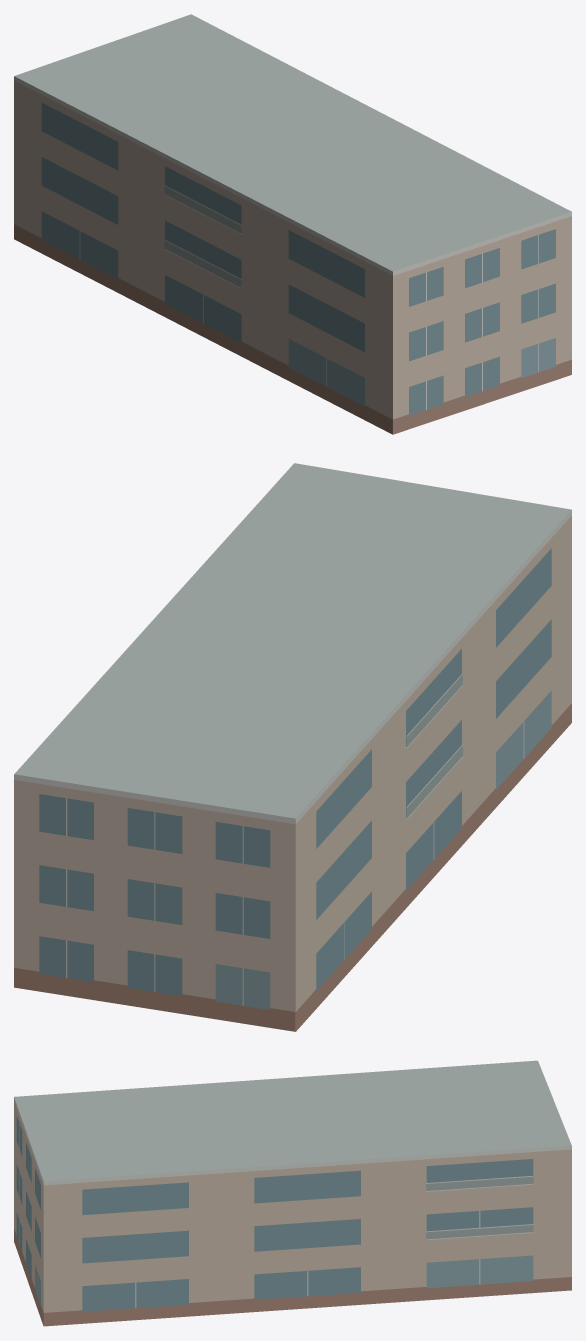
Rendered from survey-upis-33000764.glb.
The picture shows the model from 3 angles, top to bottom: view 1: azimuth 30°, elevation 25°; view 2: azimuth 150°, elevation 25°; view 3: azimuth 270°, elevation 25°; orthographic projection. The views are drawn at different scales.
Parts seen in each view (by area): view 1: survey-upis-33000764.tmp; view 2: survey-upis-33000764.tmp; view 3: survey-upis-33000764.tmp.
Part boxes in pixels (bbox=[...]): survey-upis-33000764.tmp: bbox=[14, 14, 571, 434]; survey-upis-33000764.tmp: bbox=[14, 463, 571, 1031]; survey-upis-33000764.tmp: bbox=[14, 1060, 571, 1326].
Size of the model in its own units: 16.41 by 9.15 by 31.95.
